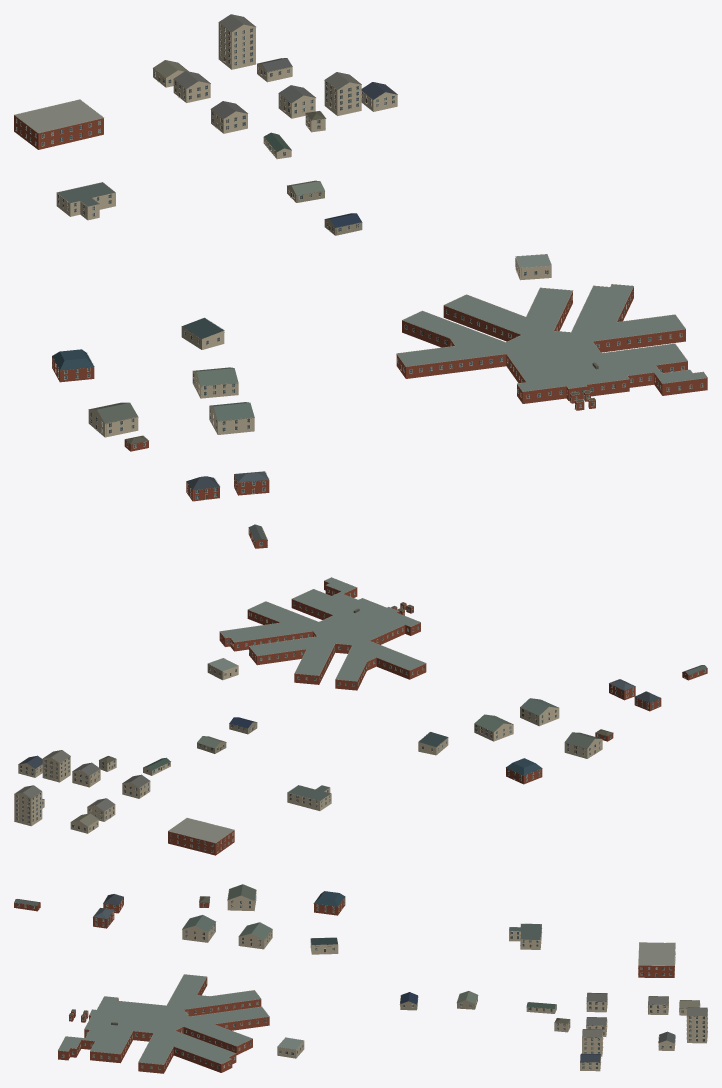
3 views of the same model, one above another, from view 1: azimuth 30°, elevation 25°; view 2: azimuth 150°, elevation 25°; view 3: azimuth 270°, elevation 25° (orthographic). The views are drawn at different scales.
Visible parts, largest first — view 1: -1_7_599107457_1, -1_7_599107458_6; view 2: -1_7_599107457_1, -1_7_599107458_6; view 3: -1_7_599107457_1, -1_7_599107458_6.
Part boxes in pixels (<box>): -1_7_599107457_1: <box>14,14,707,548</box>; -1_7_599107458_6: <box>56,22,551,437</box>; -1_7_599107457_1: <box>14,577,707,855</box>; -1_7_599107458_6: <box>14,664,602,833</box>; -1_7_599107457_1: <box>14,884,707,1073</box>; -1_7_599107458_6: <box>182,893,707,1071</box>.
Bounding box in the file's own units: 272 × 37.33 × 420.
